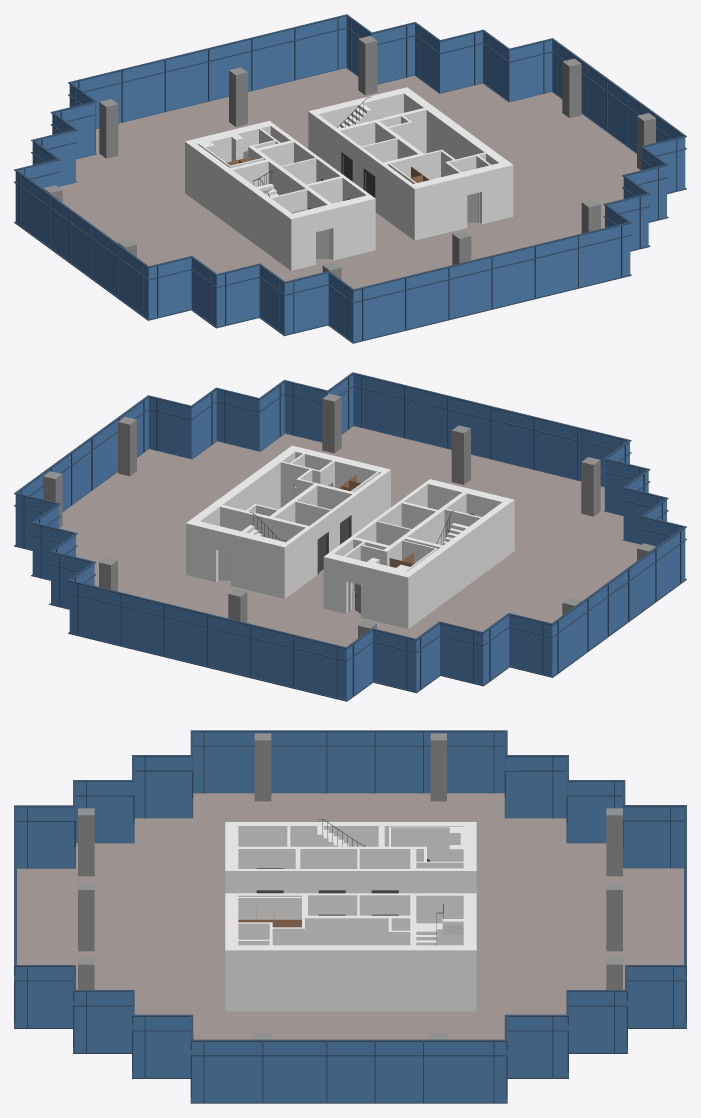
File: Floor plan 24.glb
3 renders of one model, top to bottom at view 1: azimuth 30°, elevation 25°; view 2: azimuth 150°, elevation 25°; view 3: azimuth 270°, elevation 25°, orthographic. The views are drawn at different scales.
Parts seen in each view (by area): view 1: Box3637, Box14975; view 2: Box3637, Box14975; view 3: Box3637, Box14975.
Boxes of the visible parts, x1,y1,x2,y2 form: Box3637: [14, 14, 686, 343]; Box14975: [185, 87, 513, 270]; Box3637: [14, 372, 686, 701]; Box14975: [186, 445, 514, 628]; Box3637: [14, 730, 686, 1103]; Box14975: [225, 819, 476, 1011].
Size of the model in its own units: 38.04 by 4.43 by 34.82.
